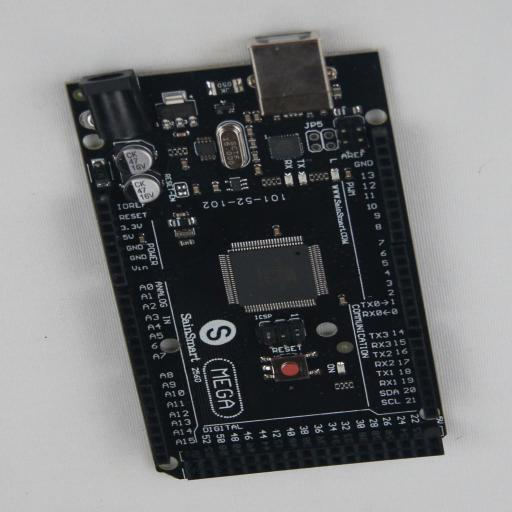Arduino Mega 2560 -Black-: (66, 32, 447, 480)
